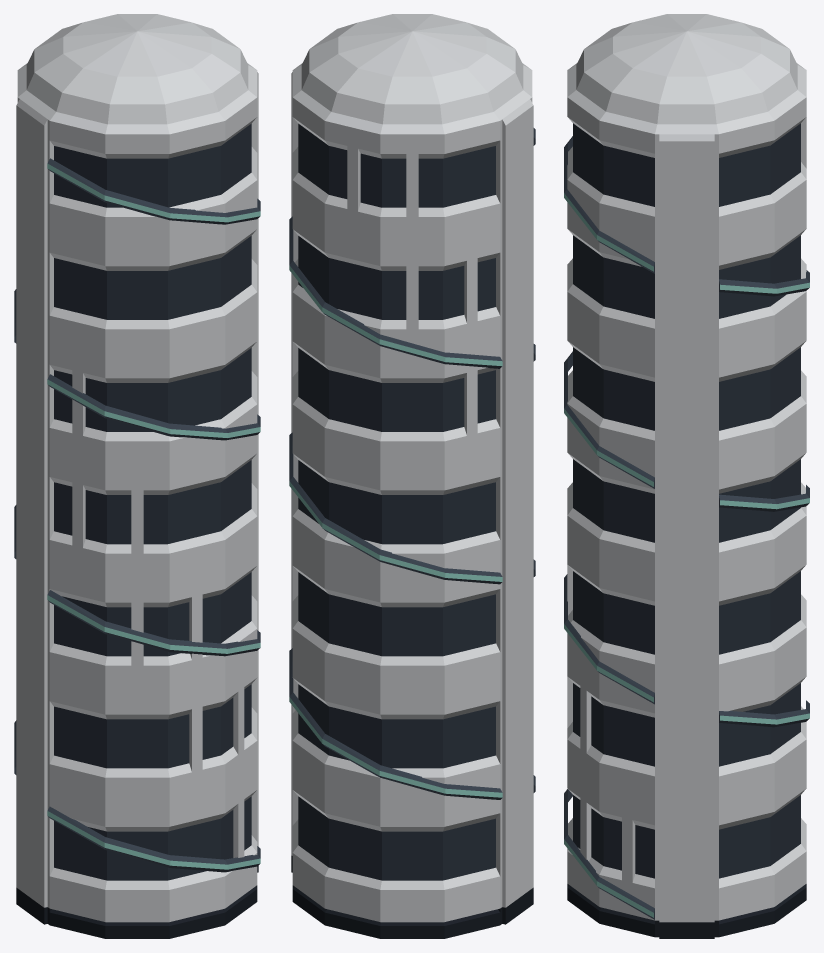
The model's file is capsule-residential-tower-80300b.glb.
3 renders of one model, left to right at view 1: azimuth 30°, elevation 25°; view 2: azimuth 150°, elevation 25°; view 3: azimuth 270°, elevation 25°, orthographic.
Parts seen in each view (by area): view 1: tower-shell, glazing; view 2: tower-shell, glazing; view 3: tower-shell, glazing.
Boxes of the visible parts, box(x1,y1,x2,y2) form: tower-shell: box(14, 14, 260, 938); glazing: box(54, 123, 251, 880); tower-shell: box(289, 14, 535, 938); glazing: box(298, 123, 495, 880); tower-shell: box(564, 14, 809, 938); glazing: box(573, 123, 800, 878).
Bounding box in the file's own units: 8 × 30.57 × 7.96.
